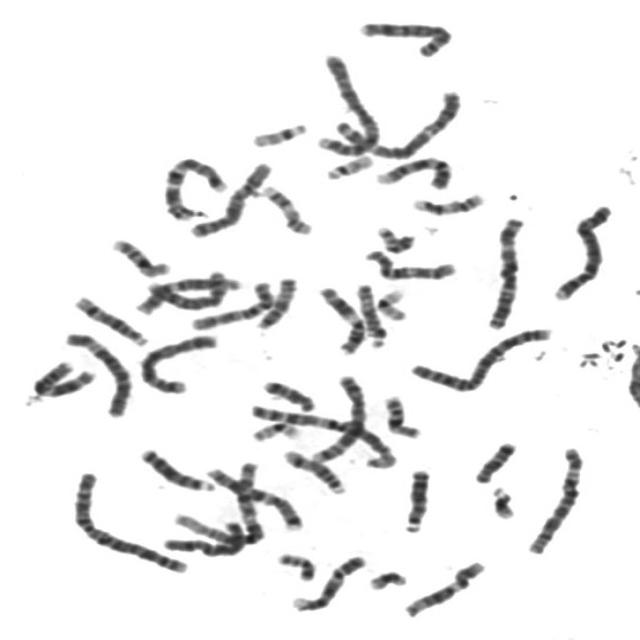A1: (242, 398, 400, 470), (158, 457, 268, 556)
A2: (65, 465, 192, 576), (403, 320, 557, 394)
A3: (308, 84, 466, 158), (479, 210, 528, 330)
B4: (308, 48, 384, 158), (545, 198, 616, 303)
B5: (306, 368, 370, 464), (132, 327, 222, 395)
C10: (184, 275, 278, 331), (357, 243, 460, 282)
C11: (312, 280, 368, 356), (24, 354, 100, 399)
C12: (396, 554, 489, 618), (131, 267, 238, 316)
C6: (520, 440, 588, 556), (57, 325, 135, 419)
C7: (199, 461, 304, 532), (156, 150, 229, 222)
C8: (131, 267, 238, 316), (352, 14, 456, 59)
C9: (285, 549, 370, 613), (368, 150, 456, 190)
D13: (134, 442, 218, 493), (398, 462, 434, 534)
D14: (67, 289, 150, 348), (275, 444, 349, 496)
D15: (250, 271, 300, 331), (349, 277, 390, 349)
E16: (104, 232, 173, 278), (378, 388, 424, 441)
E17: (256, 179, 316, 236), (406, 187, 488, 216)
E18: (467, 435, 520, 484), (255, 373, 319, 412)
F19: (245, 414, 305, 444), (370, 282, 411, 322)
F20: (270, 547, 319, 582), (370, 221, 418, 254)
G21: (484, 479, 520, 521), (361, 564, 410, 591)
G22: (244, 116, 311, 149), (318, 149, 376, 181)
X: (182, 156, 275, 238), (155, 513, 248, 558)
